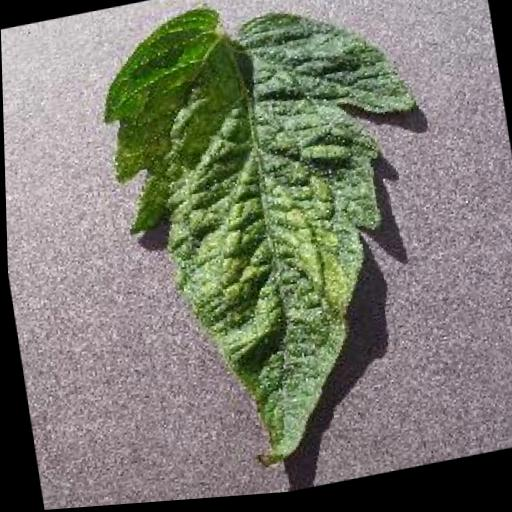Spider Mites: (89, 0, 463, 493)
